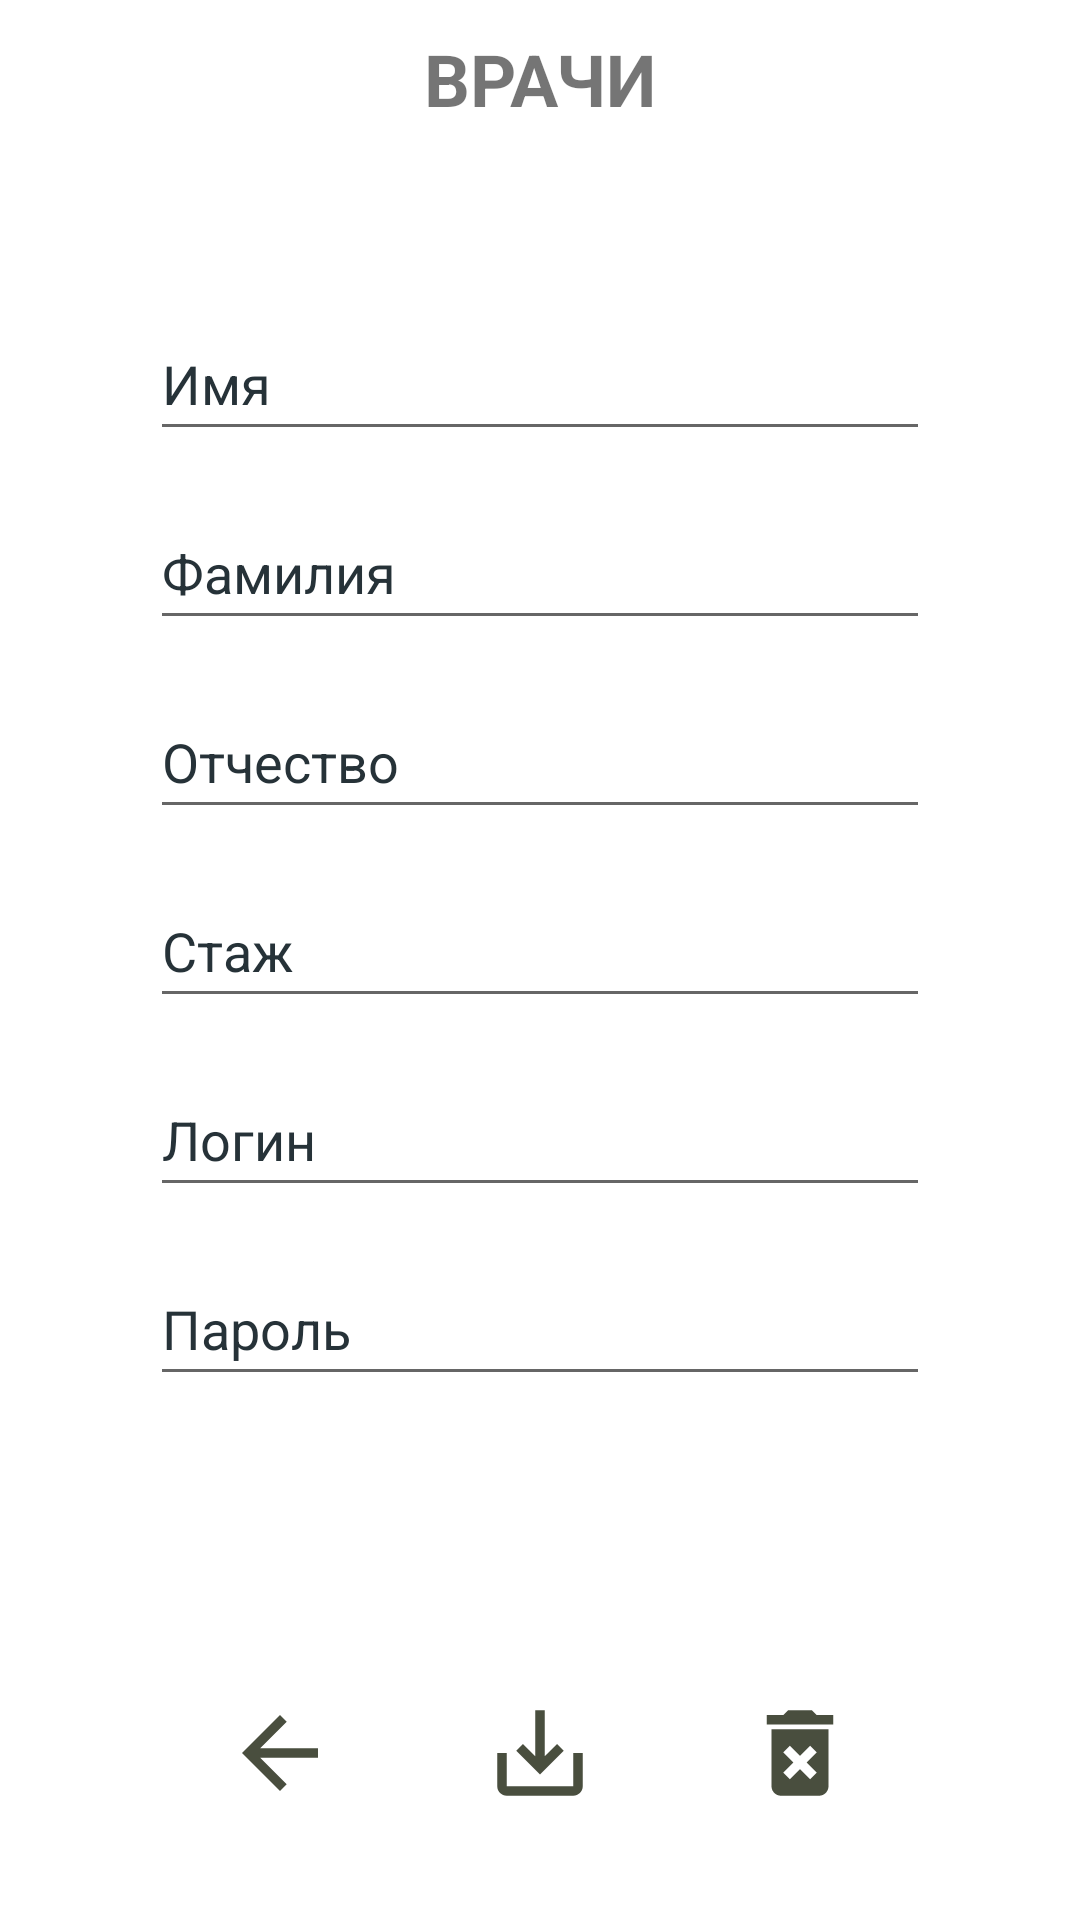

Screen size 1080 × 1920. Icon name, then its center in pixels as (x,y):
back: (280,1753)
delete: (800,1753)
save: (540,1753)
